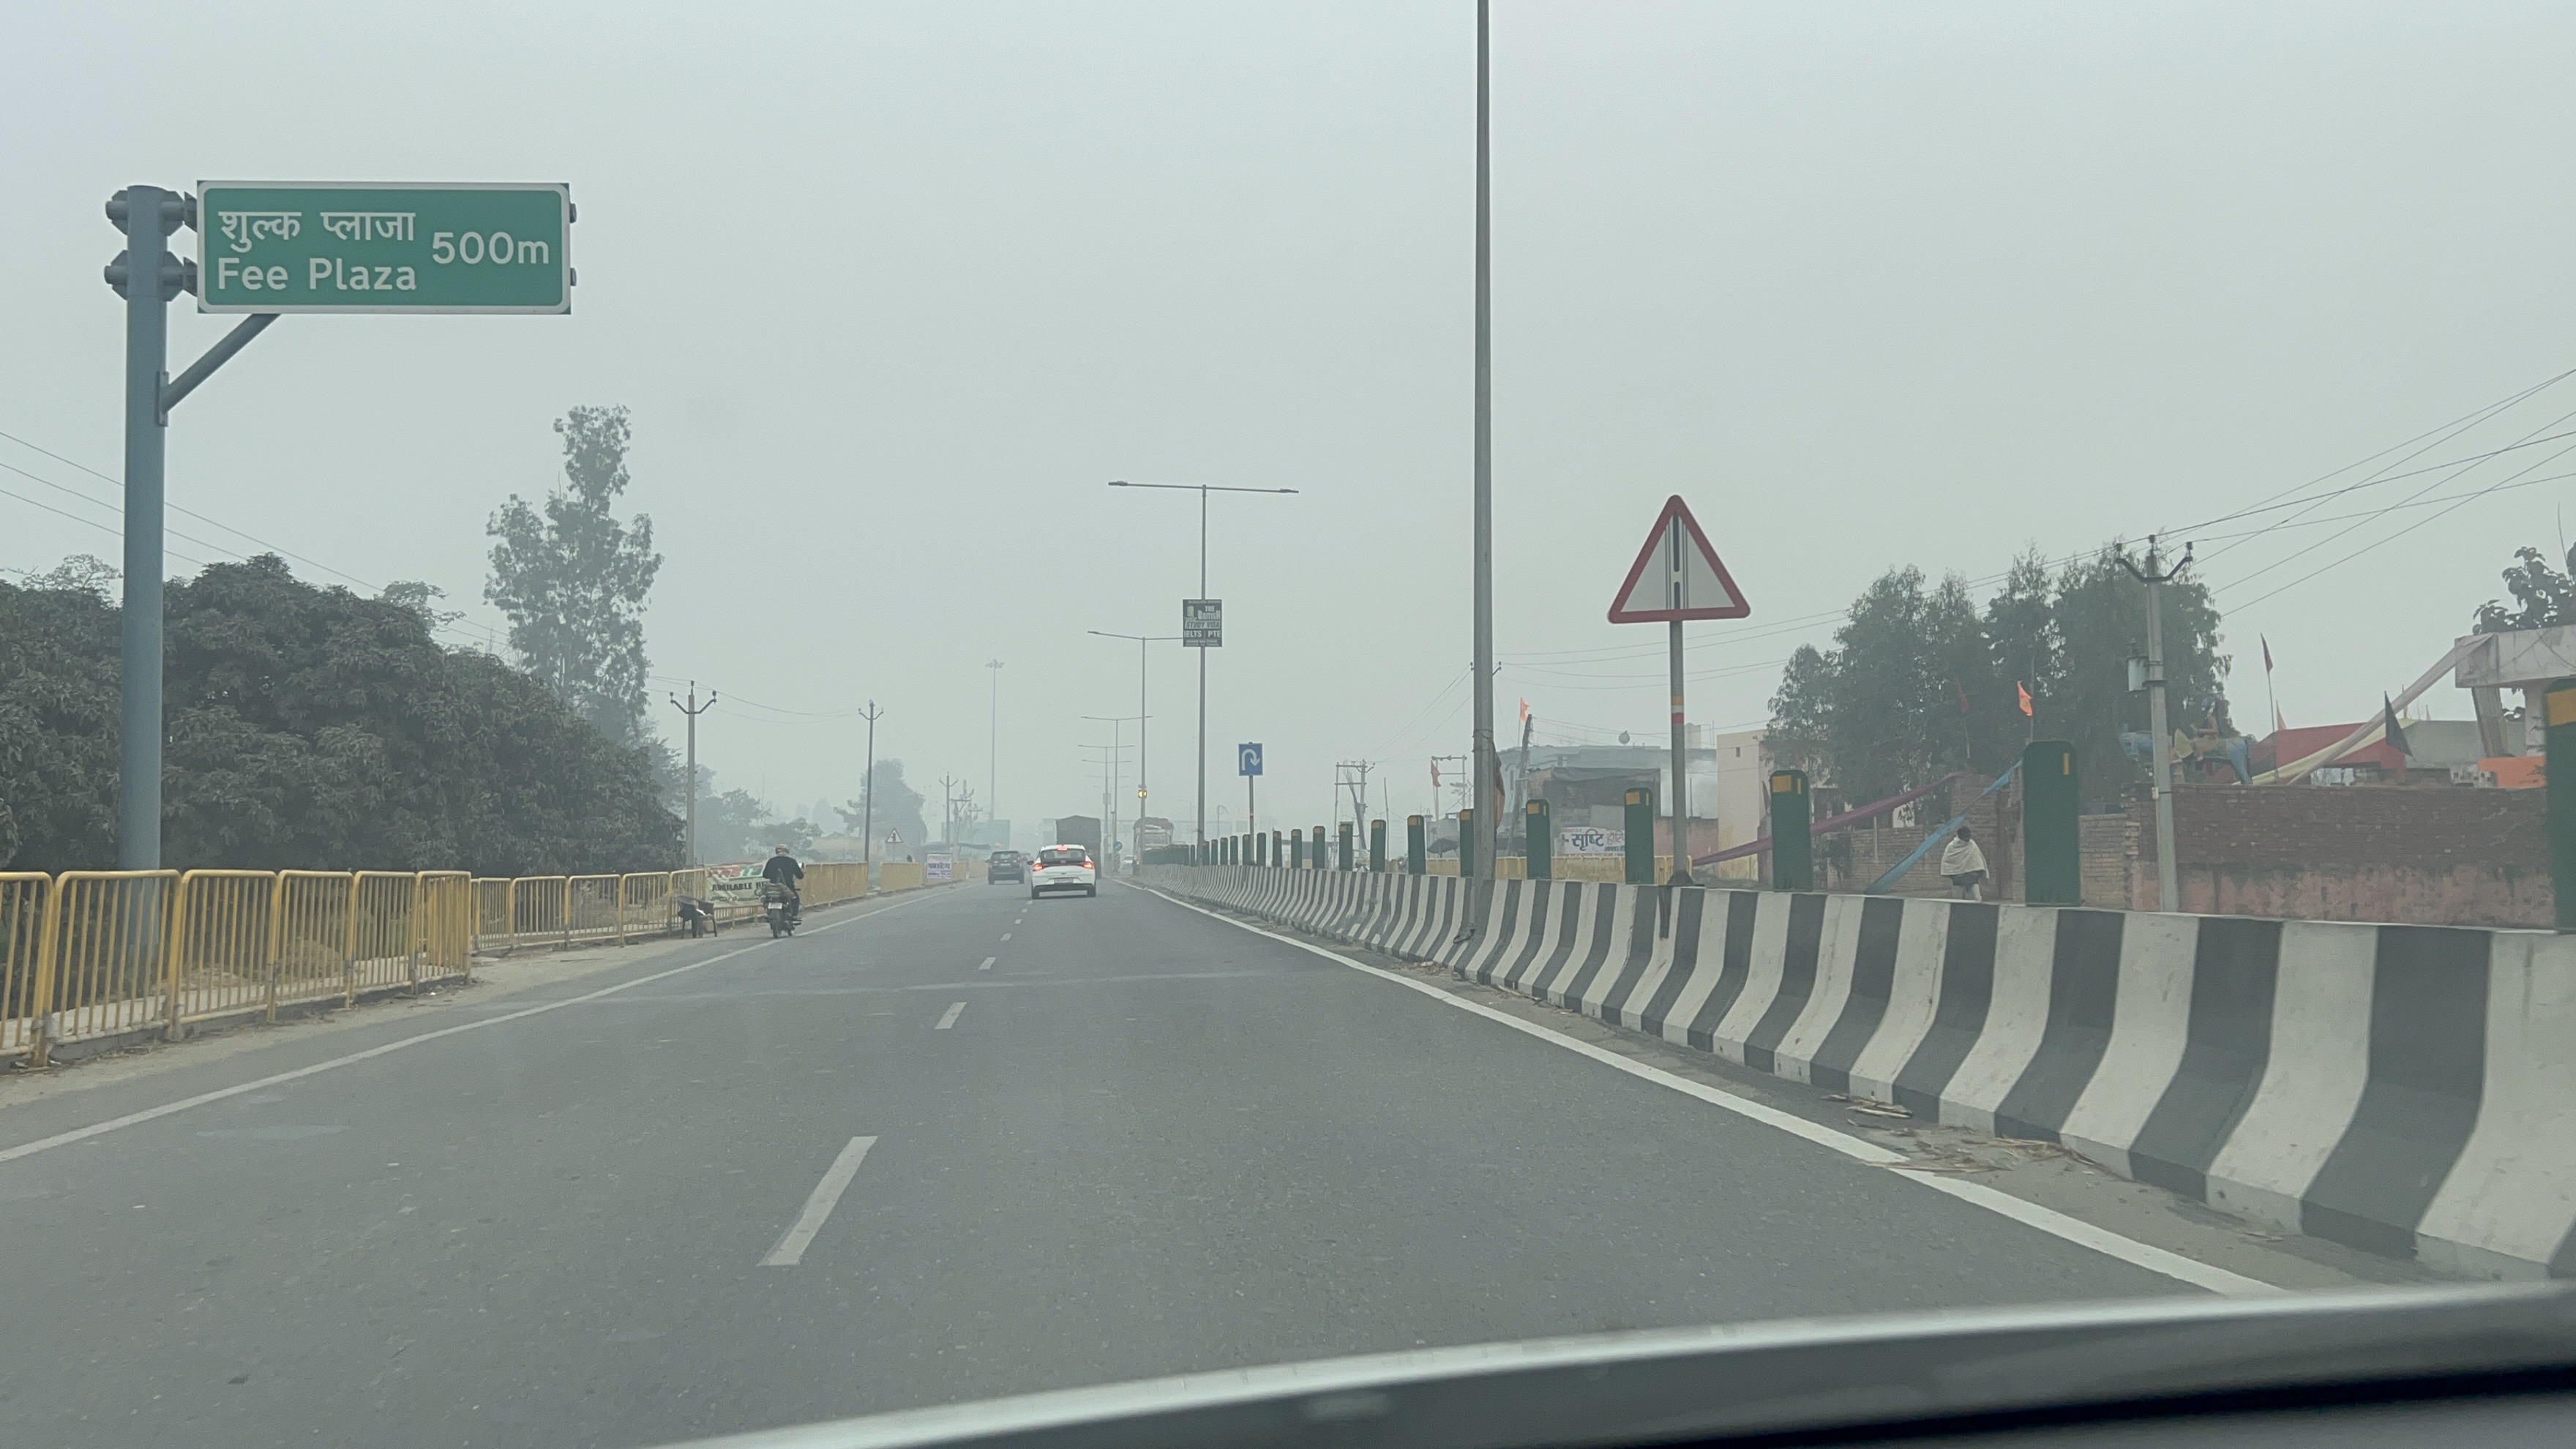General: (1111, 853, 1122, 870)
Informatory: (195, 175, 575, 315), (1237, 743, 1263, 775)
Regulatory: (1111, 840, 1123, 851)
Warning: (1601, 485, 1759, 630), (881, 826, 908, 847)
